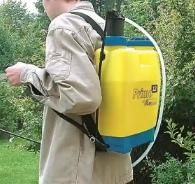PULVERISATEUR: (86, 3, 187, 178)
